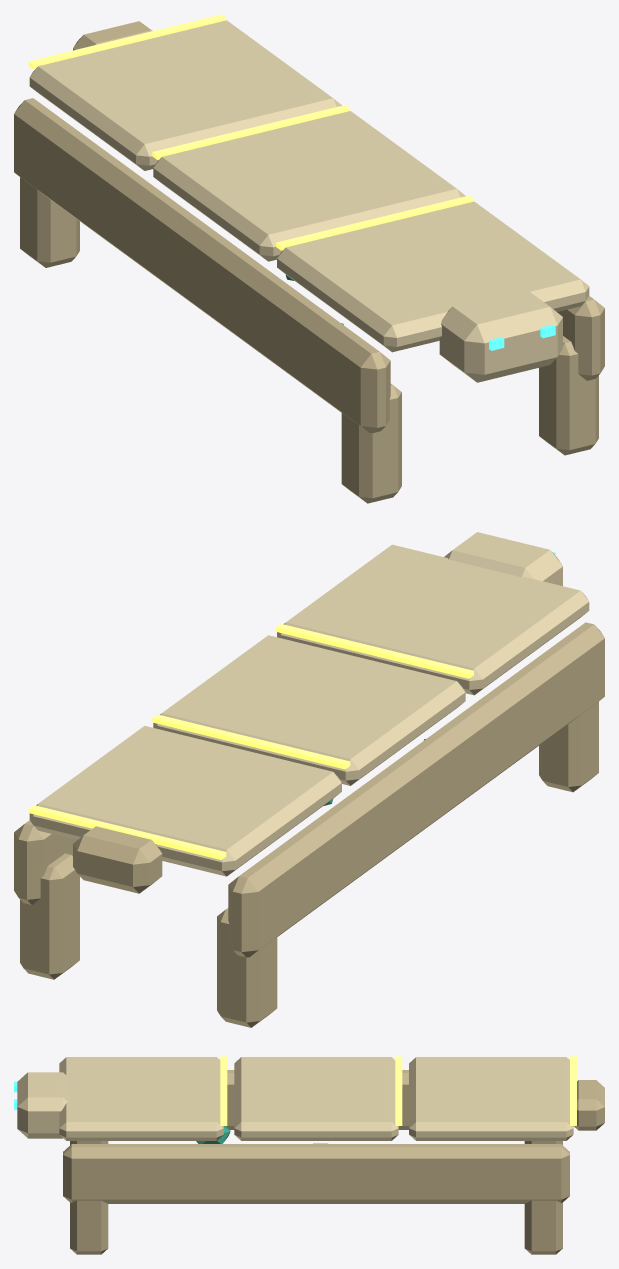
Rendered from bearer_bridge.glb.
3 views of the same model, one above another, from view 1: azimuth 30°, elevation 25°; view 2: azimuth 150°, elevation 25°; view 3: azimuth 270°, elevation 25° (orthographic). The views are drawn at different scales.
Parts seen in each view (by area): view 1: bearer_bridge; view 2: bearer_bridge; view 3: bearer_bridge.
Boxes of the visible parts, <box> form: bearer_bridge: <box>14,14,604,503</box>; bearer_bridge: <box>14,532,604,1027</box>; bearer_bridge: <box>14,1056,604,1254</box>.
Size of the model in its own units: 1.14 by 0.83 by 3.38.
